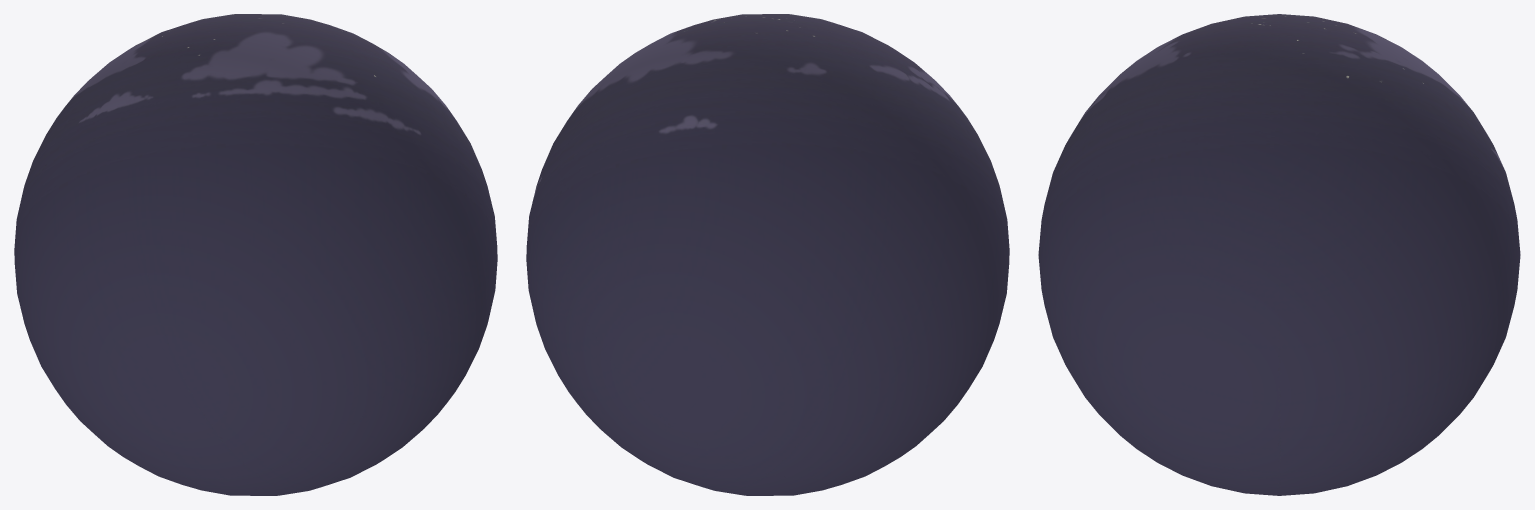
The picture shows the model from 3 angles, left to right: view 1: azimuth 30°, elevation 25°; view 2: azimuth 150°, elevation 25°; view 3: azimuth 270°, elevation 25°; orthographic projection.
Parts seen in each view (by area): view 1: sky.001; view 2: sky.001; view 3: sky.001.
Boxes of the visible parts, <box> form: sky.001: <box>14,14,497,495</box>; sky.001: <box>526,14,1009,495</box>; sky.001: <box>1038,14,1520,495</box>.
Bounding box in the file's own units: 98.93 × 98.93 × 98.93.
1 material, 1 textured.
